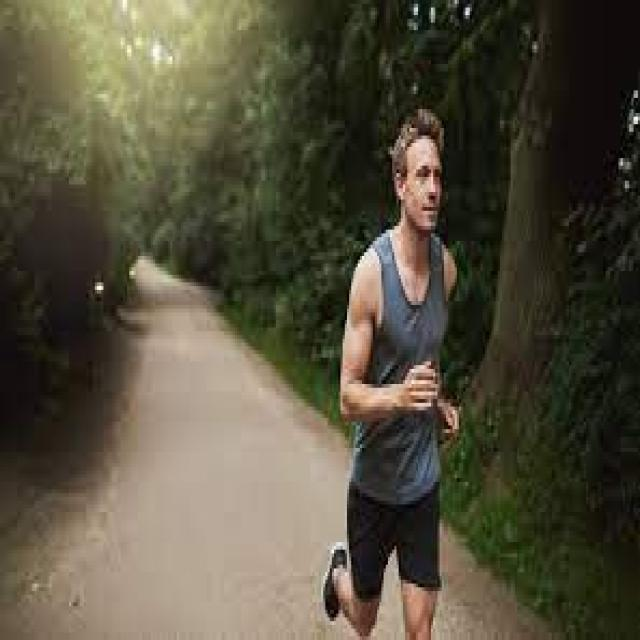Person: (324, 109, 459, 640)
